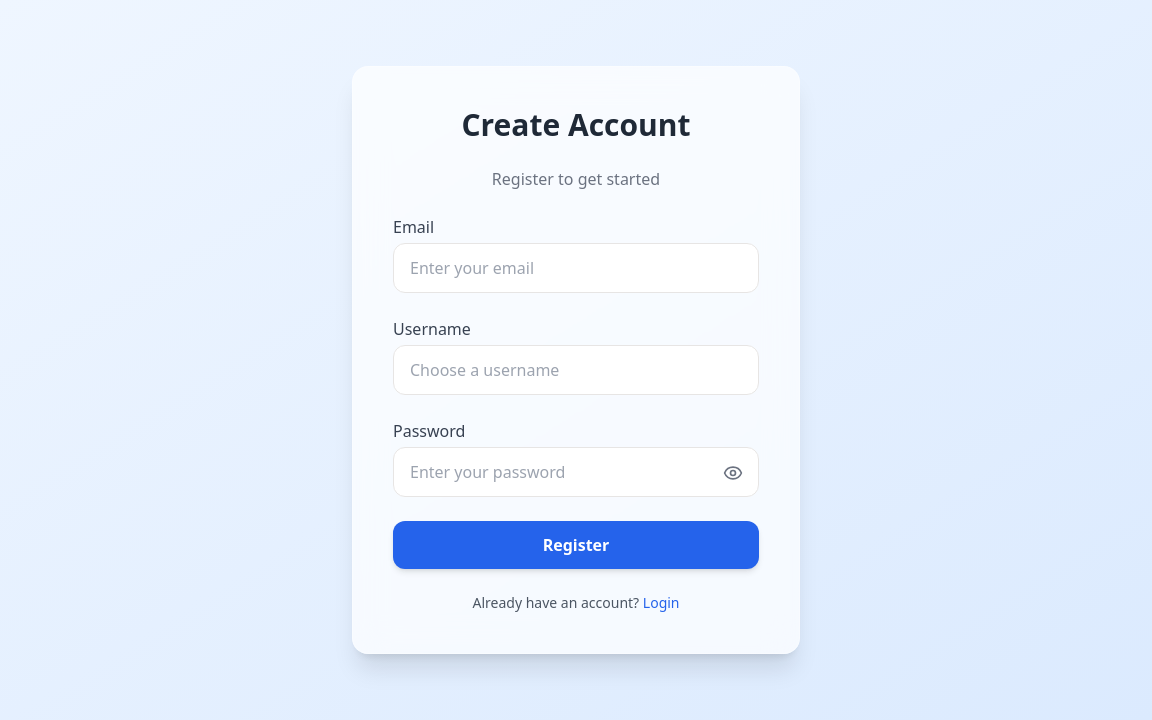
Test: RegistrationPage › shows generic error if no detail in error response
Type "sam@sam.com" into the field with placeholder "Enter your email" at coordinates (576, 268), box [393,243,759,293]
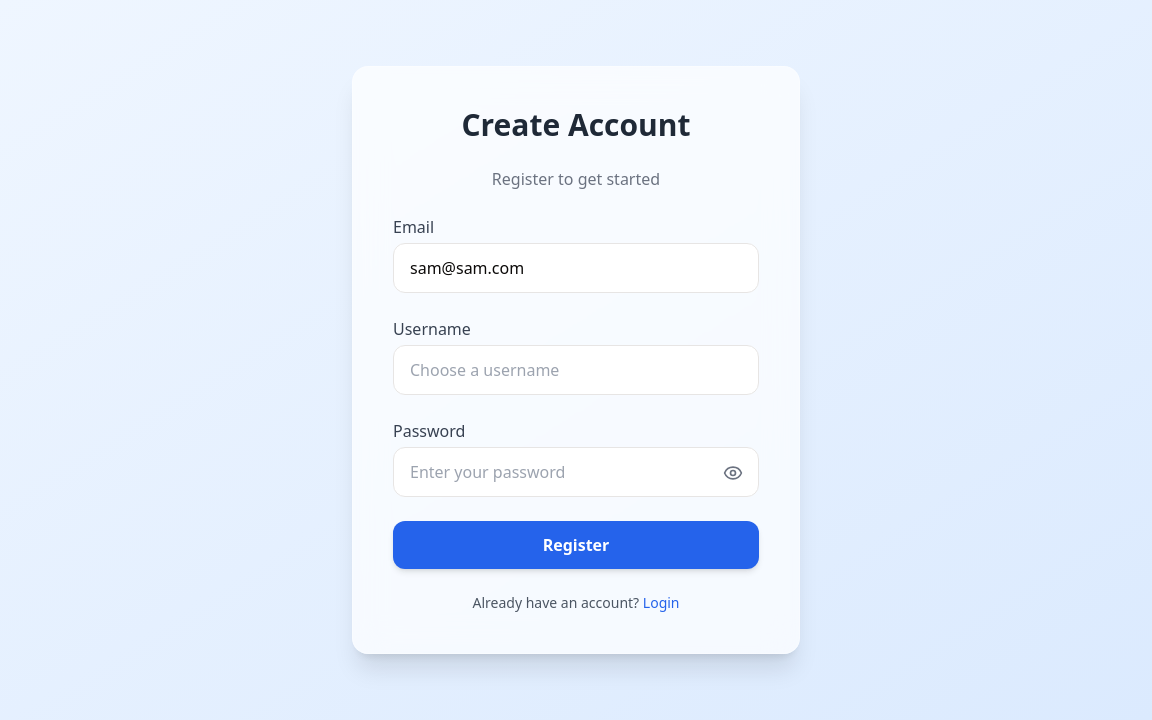
Type "sam" into the field with placeholder "Choose a username" at coordinates (576, 370), box [393,345,759,395]
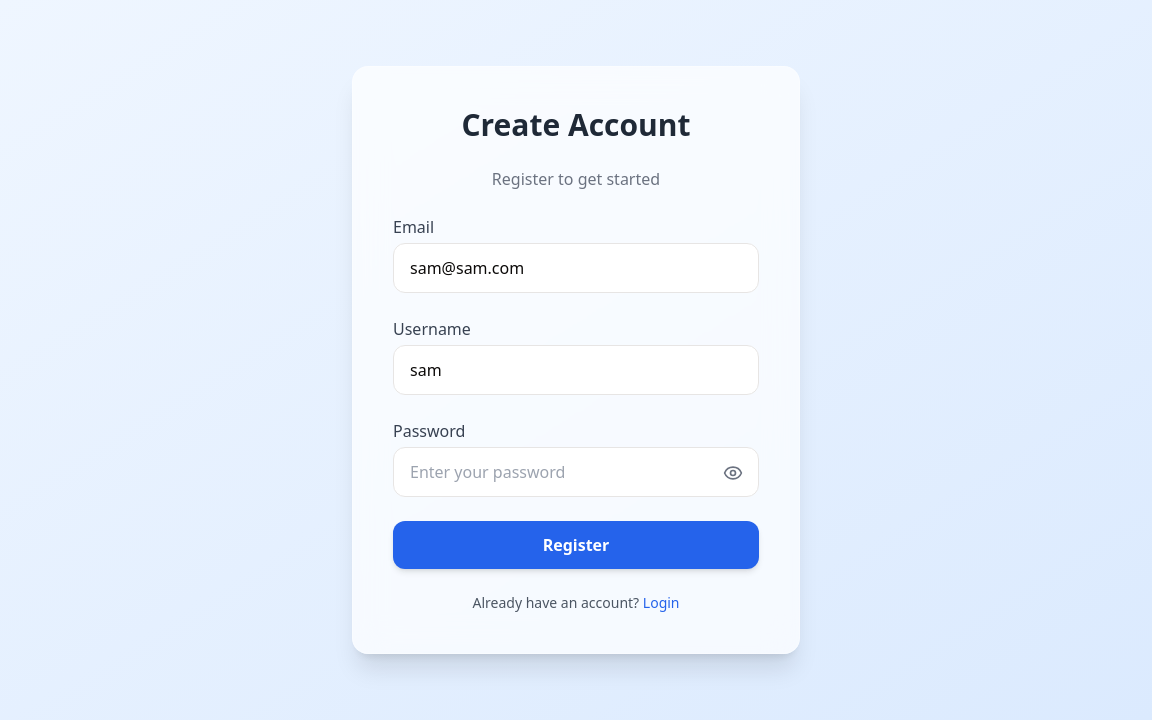
Type "password" into the password field with placeholder "Enter your password" at coordinates (576, 472), box [393,447,759,497]
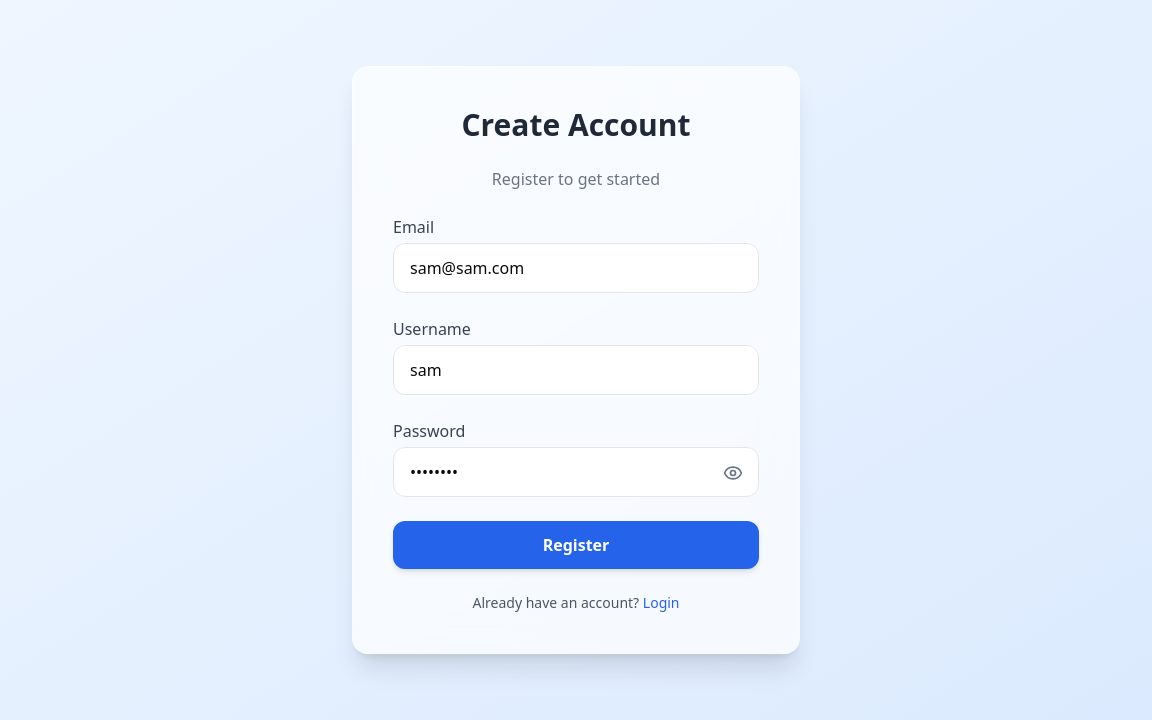
Click the button "Register" at coordinates (576, 545), box [393,521,759,569]
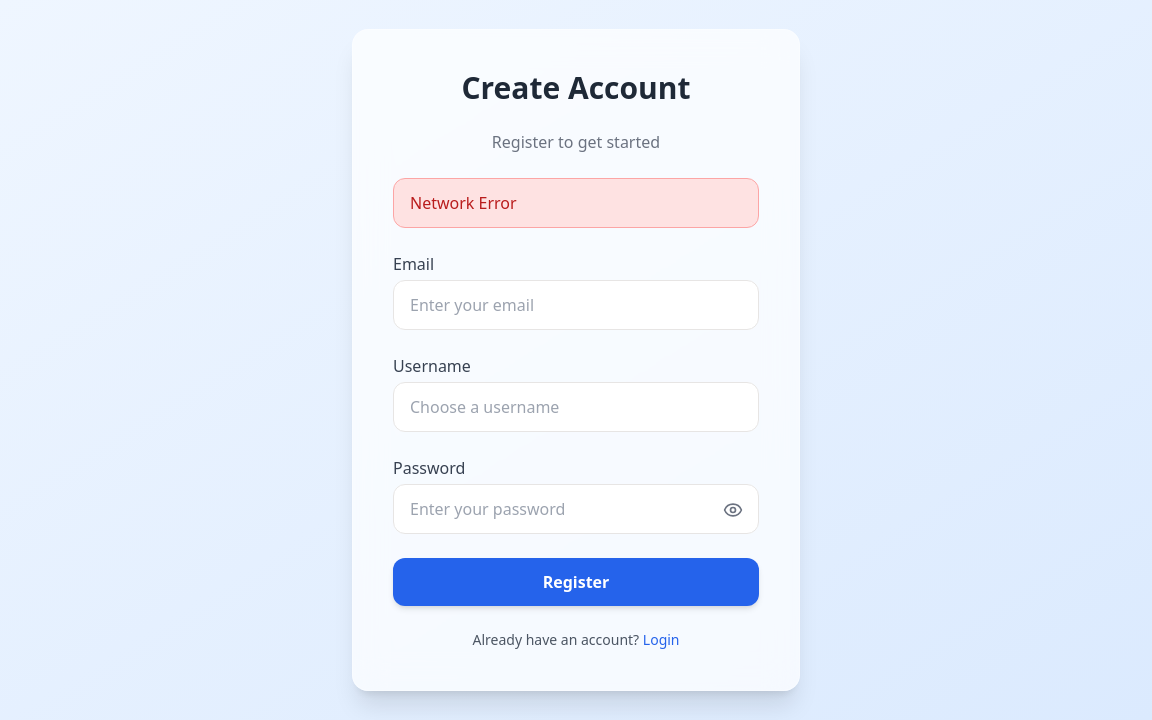
Expected: the text "Network Error" is shown, [393,178,759,228]
